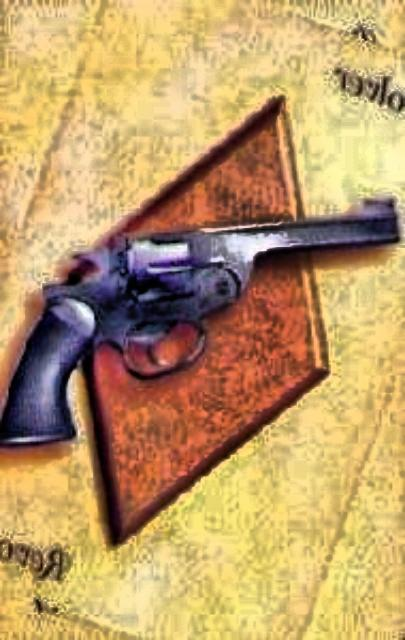pistol: (0, 192, 398, 448)
